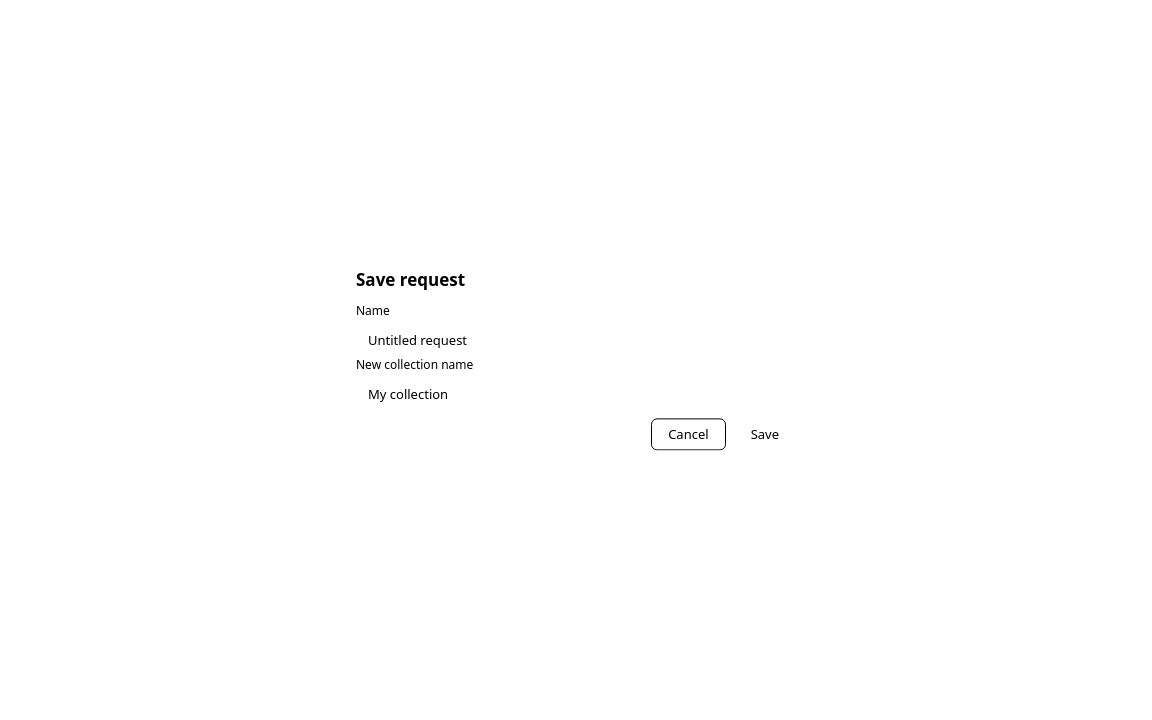
Test: SaveDialog › selects the created collection when saveAs fails after createCollection
Click the button "Save".
click(765, 435)  # box [734,419,796,451]
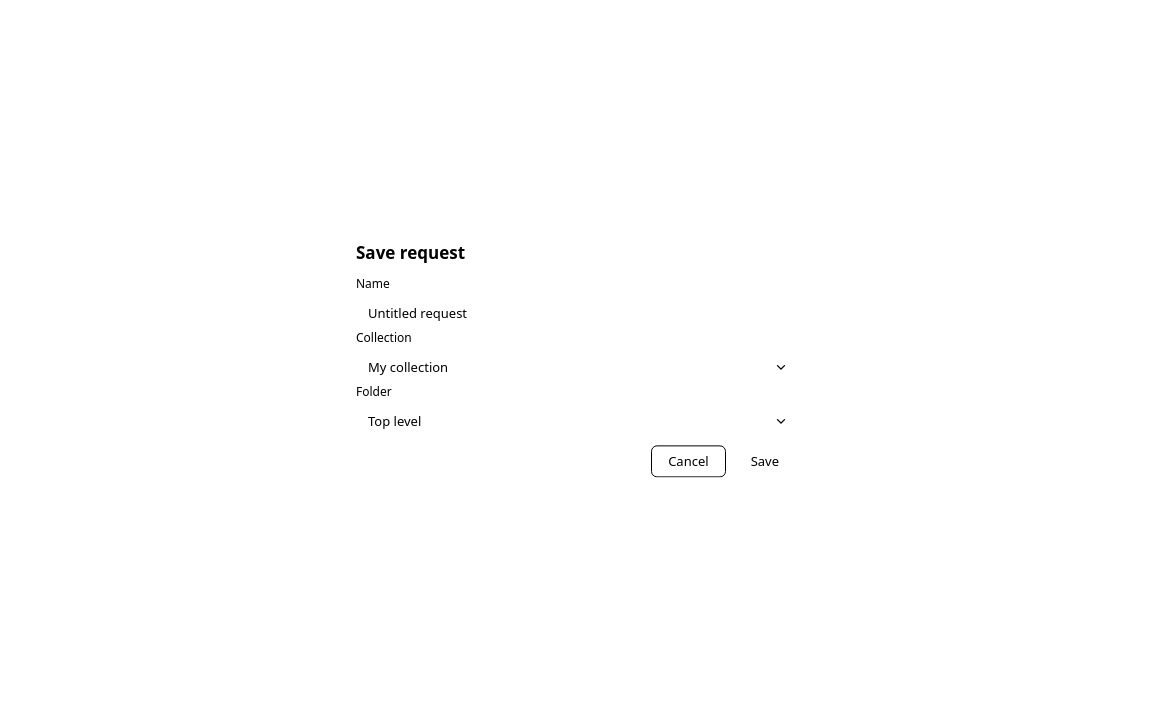
Check: the button "Save" is enabled, box [734,446,796,478]
Check: the dropdown labelled "collection" reads "My collection", box [356,352,796,384]
